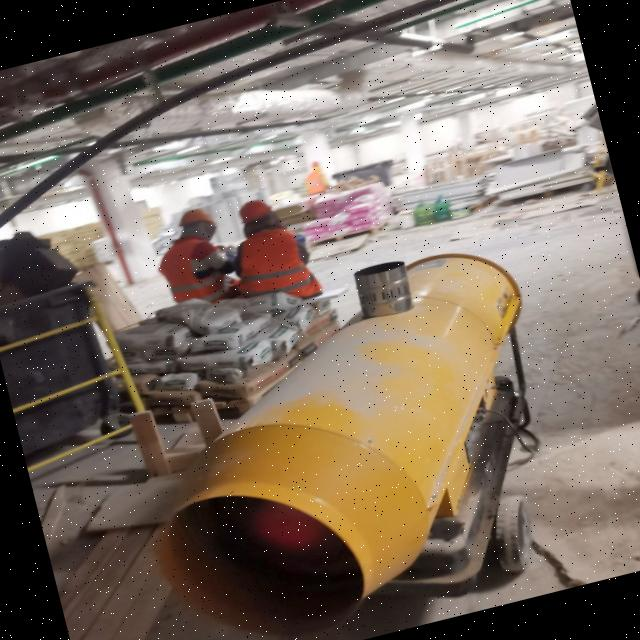Helmet: (177, 205, 218, 235), (236, 197, 277, 227)
Jacket: (236, 221, 312, 300), (159, 233, 231, 305), (303, 168, 330, 196)
